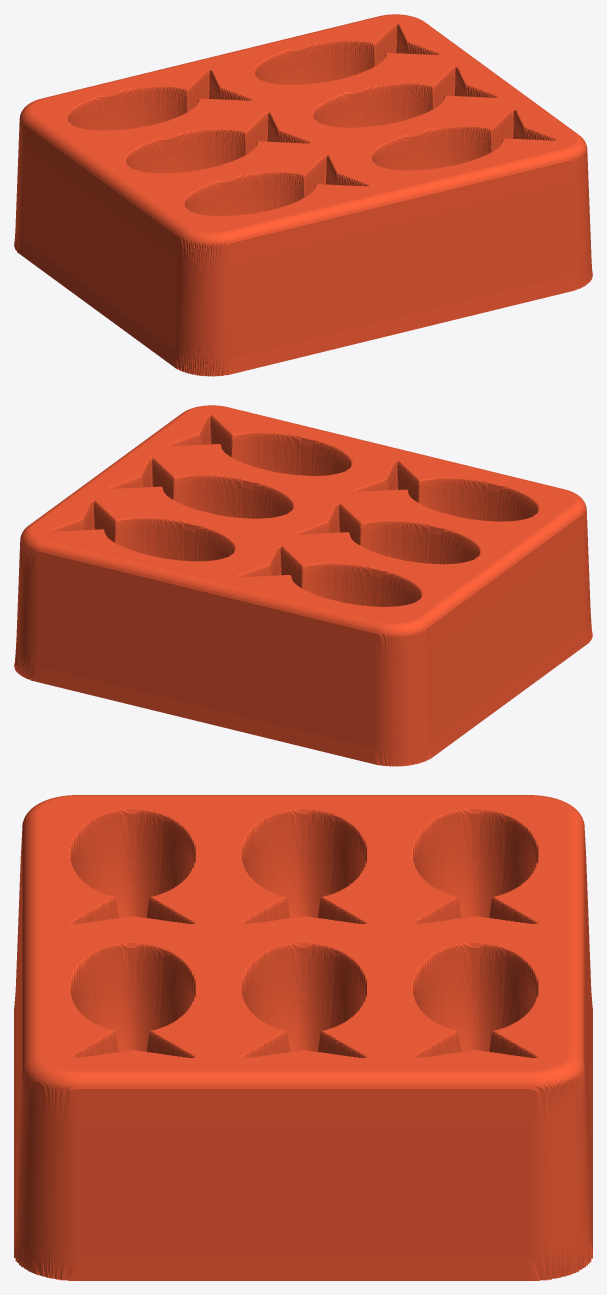
Rendered from mold.glb.
3 renders of one model, top to bottom at view 1: azimuth 30°, elevation 25°; view 2: azimuth 150°, elevation 25°; view 3: azimuth 270°, elevation 25°, orthographic. The views are drawn at different scales.
Visible parts, largest first — view 1: geometry_0; view 2: geometry_0; view 3: geometry_0.
Boxes of the visible parts, x1,y1,x2,y2 form: geometry_0: (14, 14, 592, 376); geometry_0: (14, 405, 592, 766); geometry_0: (14, 795, 592, 1280).
Size of the model in its own units: 0.0996 by 0.0314 by 0.0825.
